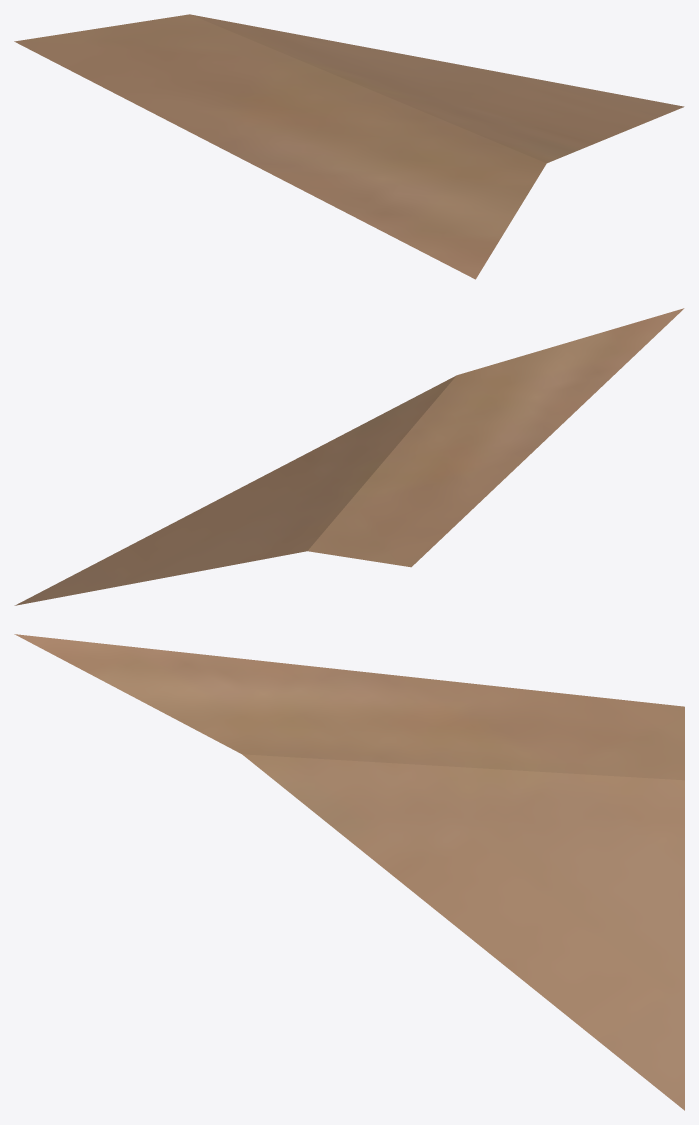
The picture shows the model from 3 angles, top to bottom: view 1: azimuth 30°, elevation 25°; view 2: azimuth 150°, elevation 25°; view 3: azimuth 270°, elevation 25°; orthographic projection. The views are drawn at different scales.
Bounding box in the file's own units: 0.1294 × 0.0606 × 0.1543.
Materials: 1 (1 with a texture image).
